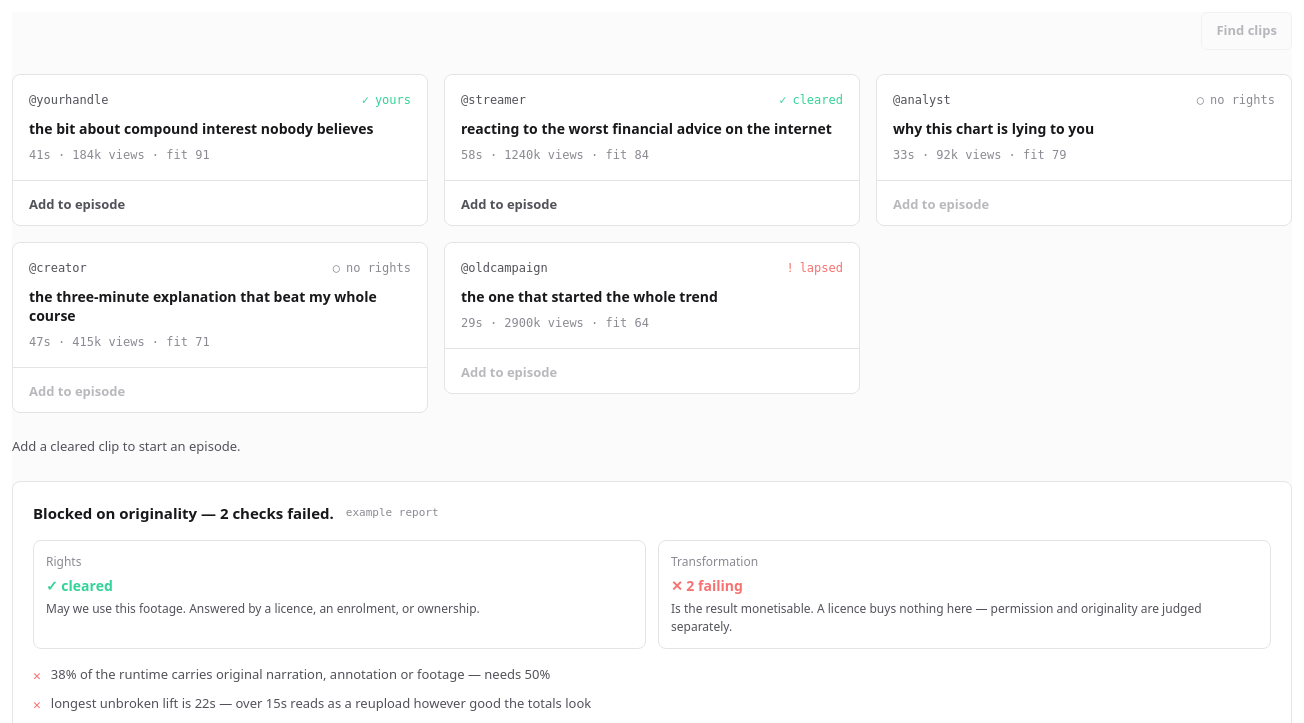
Test: rights gating › allows a cleared clip to be added
This screenshot has width=1304, height=723.
Click the 1st button "Add to episode": (77, 205) [29, 195, 125, 214]
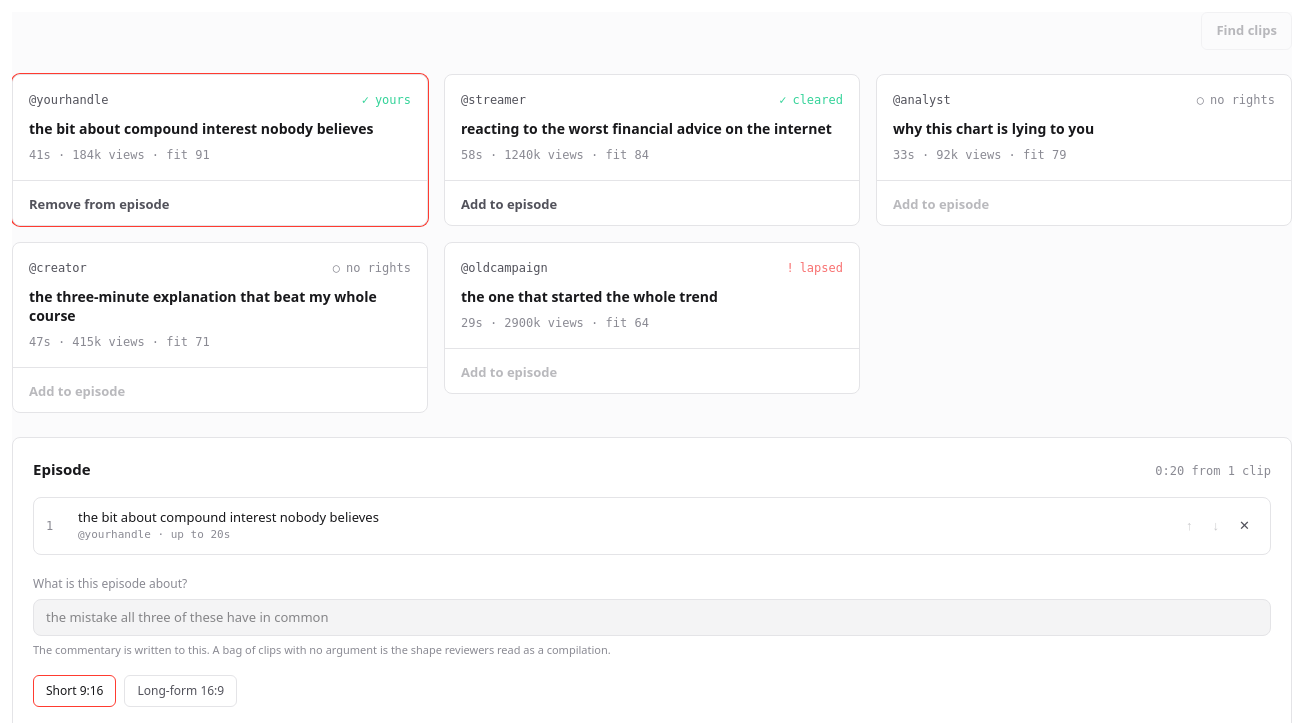
expect the text "0:20 from 1 clip" is shown: met, box [1155, 462, 1271, 480]
